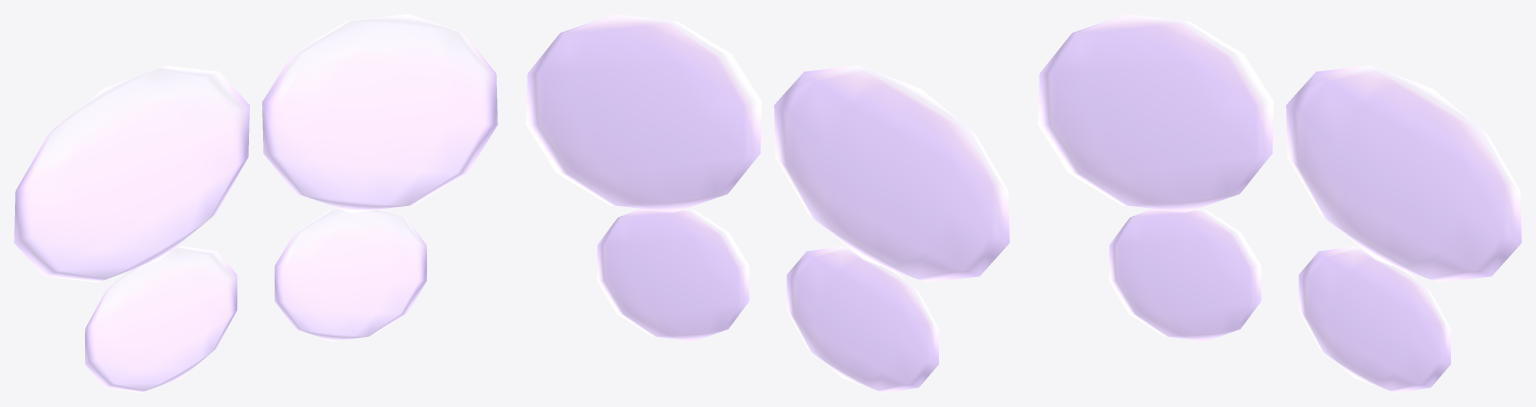
Rendered from wings_butterfly.glb.
3 views of the same model, side by side, from view 1: azimuth 30°, elevation 25°; view 2: azimuth 150°, elevation 25°; view 3: azimuth 330°, elevation 25° (orthographic).
Parts seen in each view (by area): view 1: wing_r, wing_l; view 2: wing_r, wing_l; view 3: wing_l, wing_r.
Part boxes in pixels (<box>): wing_r: <box>14,65,249,392</box>; wing_l: <box>262,14,497,341</box>; wing_r: <box>774,65,1009,392</box>; wing_l: <box>526,14,761,341</box>; wing_l: <box>1286,65,1521,392</box>; wing_r: <box>1038,14,1273,341</box>.
Bounding box in the file's own units: 0.6634 × 0.4208 × 0.0272.
